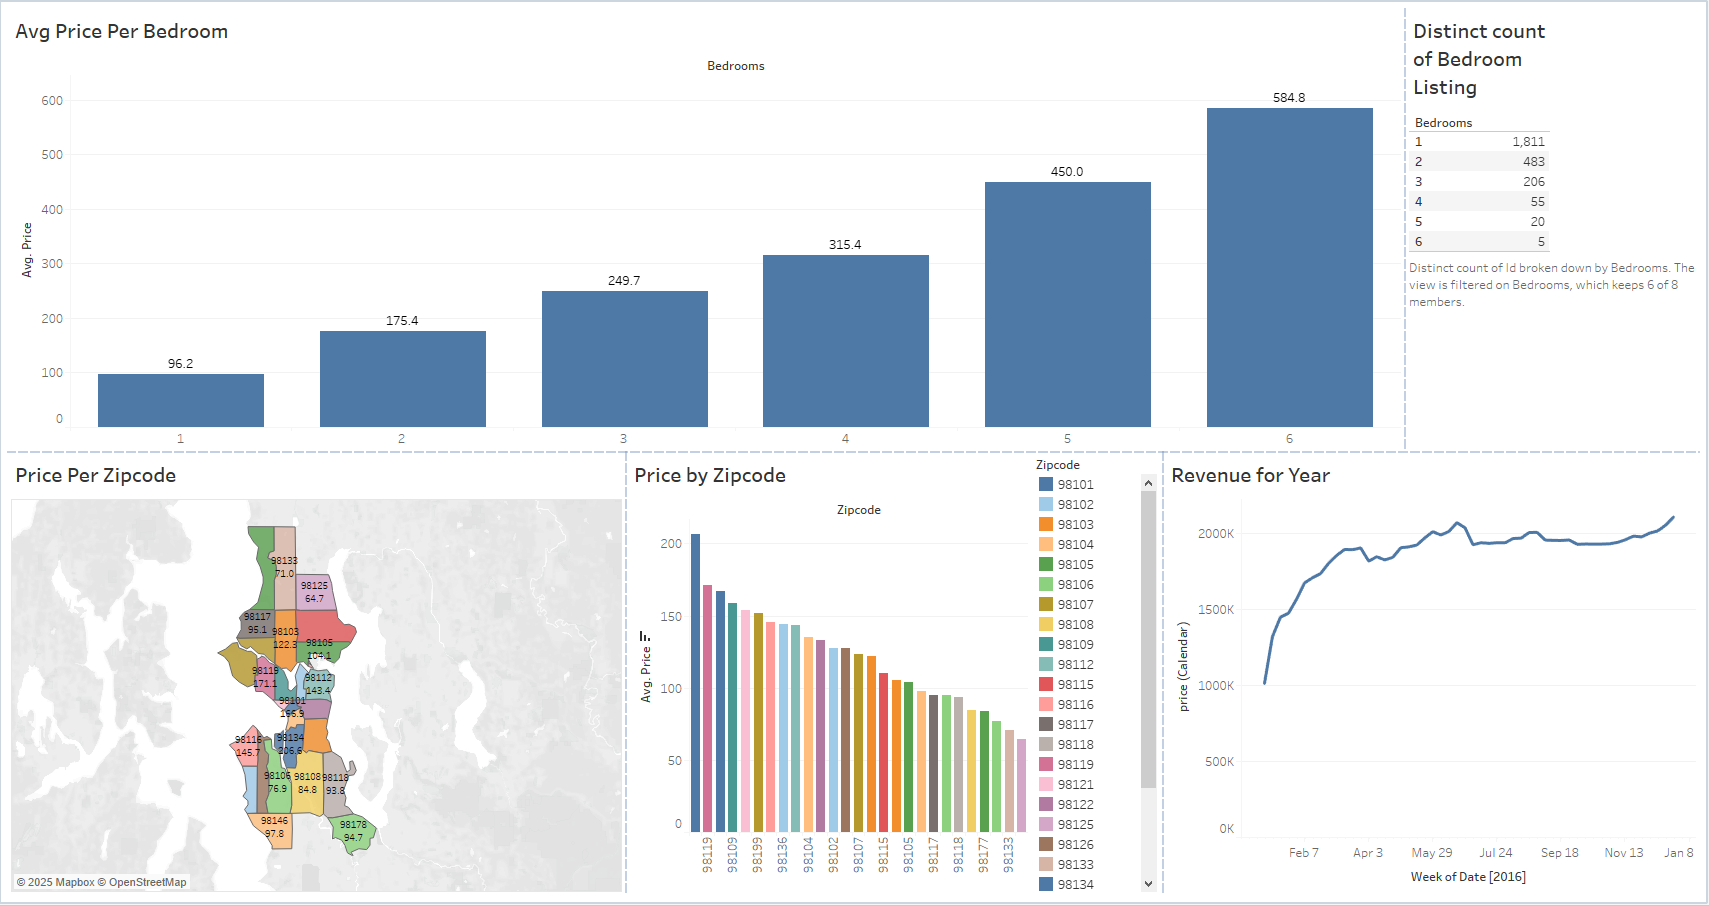

What the dashboard file says about the page in this screenshot:
{"tool":"tableau","page":{"name":"Dashboard 1","canvas":[1000,1000],"units":"permille","ordinal":0},"visuals":[{"type":"worksheet","title":"Sheet 4","mark":"Automatic","rows":["price"],"cols":["bedrooms"],"box":[11.1,9,807.4,491]},{"type":"worksheet","title":"Sheet 5","mark":"Automatic","rows":["bedrooms"],"box":[818.5,9,170.4,491]},{"type":"worksheet","title":"Sheet 2","mark":"Multipolygon","box":[11.1,500,357.5,491]},{"type":"worksheet","title":"Sheet 1","mark":"Automatic","rows":["price"],"cols":["zipcode"],"box":[368.6,500,128.2,491]},{"type":"legend","title":"Sheet 1","param":"[federated.0ve992u0n7s95h14zaa400dvr2au].[none:zipcode:ok]","box":[496.8,500,181.9,491]},{"type":"worksheet","title":"Sheet 3","mark":"Automatic","rows":["price (Calendar)"],"cols":["date"],"box":[678.7,500,310.2,491]}]}

Visuals, with their boxes on the dashboard's canvas, which has no fixed pixel size, in thousandths of its width and height (x1, y1, x2, y2). These are canvas units, not pixel positions in the 1709x906 screenshot, which may show the page scaled, cropped or inside an application window:
"Sheet 4" worksheet: 11 9 818 500
"Sheet 5" worksheet: 818 9 989 500
"Sheet 2" worksheet (Multipolygon marks): 11 500 369 991
"Sheet 1" worksheet: 369 500 497 991
"Sheet 1" legend: 497 500 679 991
"Sheet 3" worksheet: 679 500 989 991
